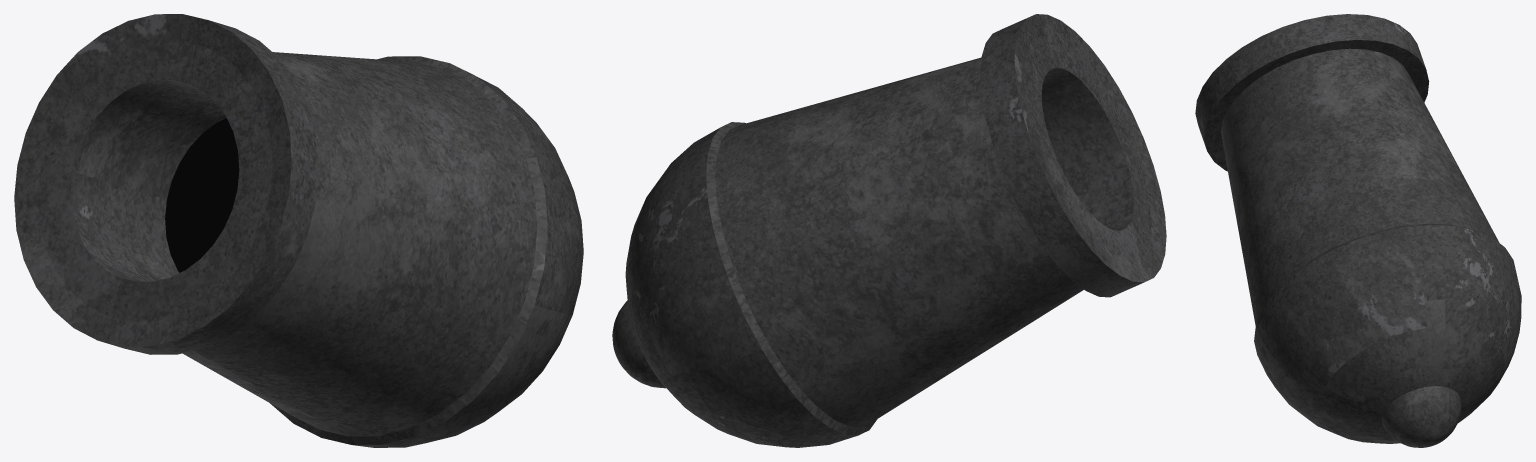
Rendered from cannon.glb.
The picture shows the model from 3 angles, left to right: view 1: azimuth 30°, elevation 25°; view 2: azimuth 150°, elevation 25°; view 3: azimuth 270°, elevation 25°; orthographic projection. The views are drawn at different scales.
Parts seen in each view (by area): view 1: Cannon; view 2: Cannon; view 3: Cannon.
Boxes of the visible parts, bbox=[...] form: Cannon: bbox=[14, 14, 583, 447]; Cannon: bbox=[612, 14, 1166, 447]; Cannon: bbox=[1195, 14, 1521, 447].
Size of the model in its own units: 1.9 by 1.62 by 1.4.
Materials: 2 (1 with a texture image).
